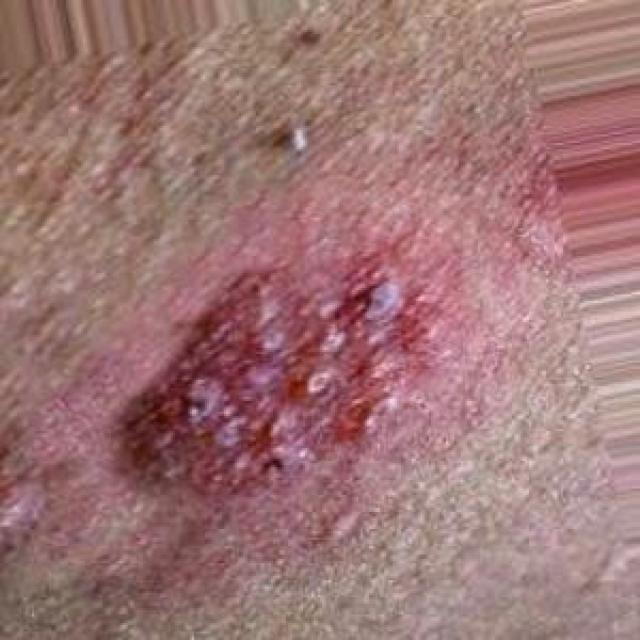Shingles: (91, 261, 448, 496)
